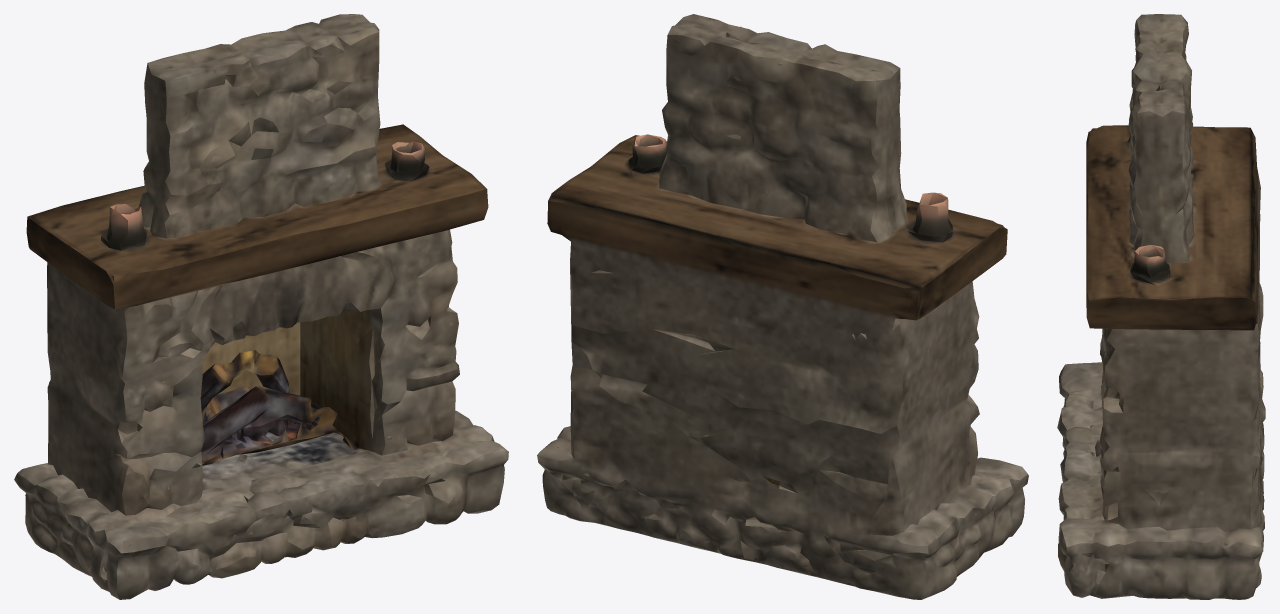
Rendered from fireplace.glb.
3 renders of one model, left to right at view 1: azimuth 30°, elevation 25°; view 2: azimuth 150°, elevation 25°; view 3: azimuth 270°, elevation 25°, orthographic. The views are drawn at different scales.
Visible parts, largest first — view 1: world; view 2: world; view 3: world.
Part boxes in pixels (bbox=[...]): world: bbox=[14, 14, 508, 599]; world: bbox=[537, 14, 1028, 599]; world: bbox=[1057, 14, 1265, 599].
Size of the model in its own units: 1.91 by 2.2 by 0.9146.
Materials: 1 (1 with a texture image).
